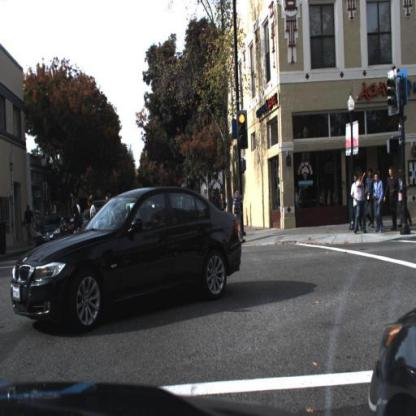car: (10, 187, 243, 328), (368, 308, 416, 416), (38, 216, 70, 248)
pedestrian: (386, 167, 400, 237), (350, 178, 362, 233), (365, 171, 376, 229), (374, 172, 385, 230), (355, 176, 366, 233), (366, 170, 376, 227), (233, 190, 243, 243), (24, 203, 36, 247), (375, 175, 384, 232), (72, 197, 84, 235), (397, 169, 404, 227), (88, 195, 98, 225), (219, 194, 228, 219), (219, 195, 227, 213)
trafficLight: (237, 110, 249, 148)
